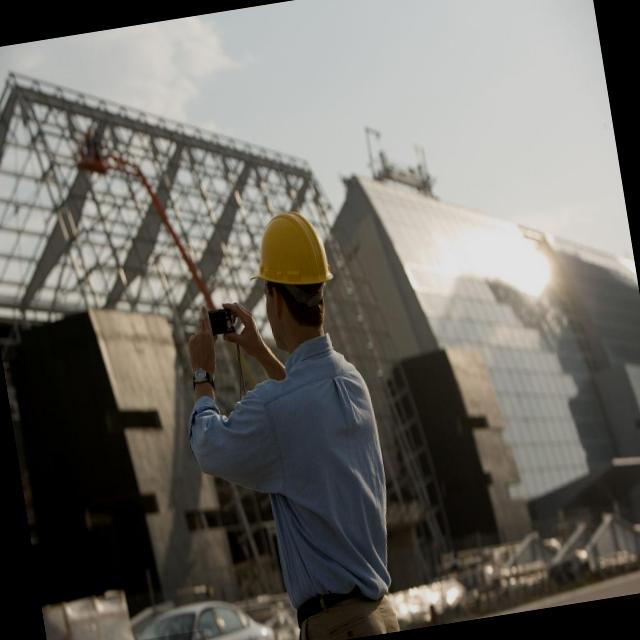helmet: (234, 192, 342, 310)
no-vest: (228, 316, 413, 626)
